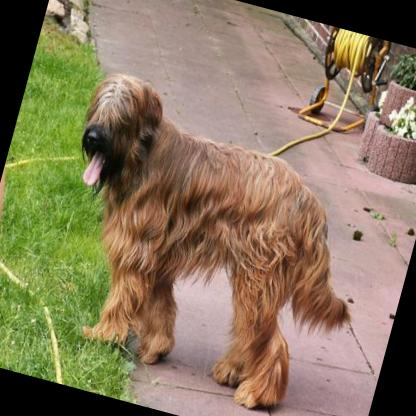briard: (21, 63, 397, 416)
